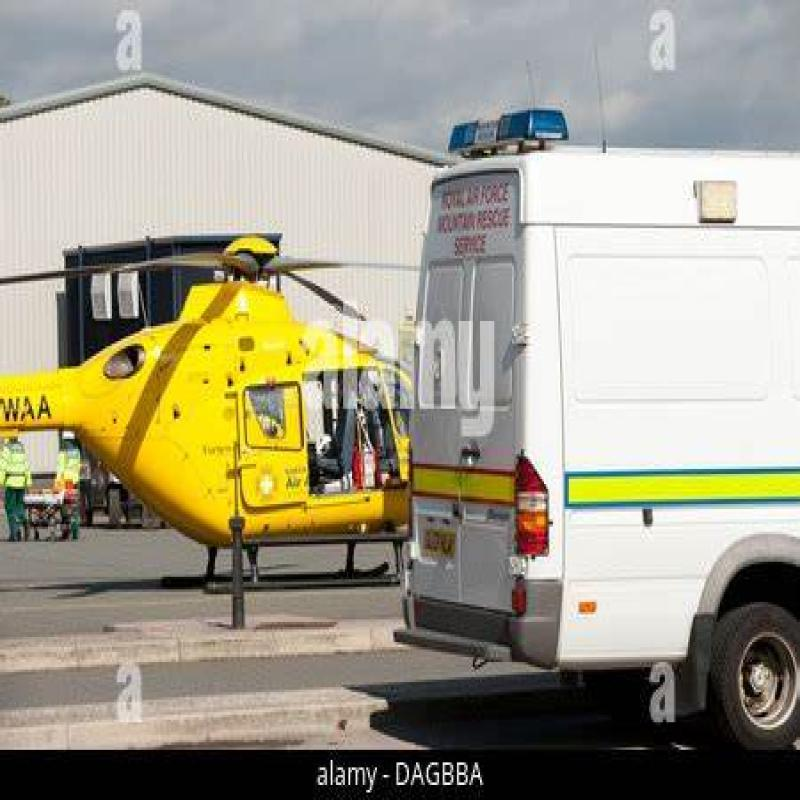AmbulanceSiren: (423, 99, 581, 172)
